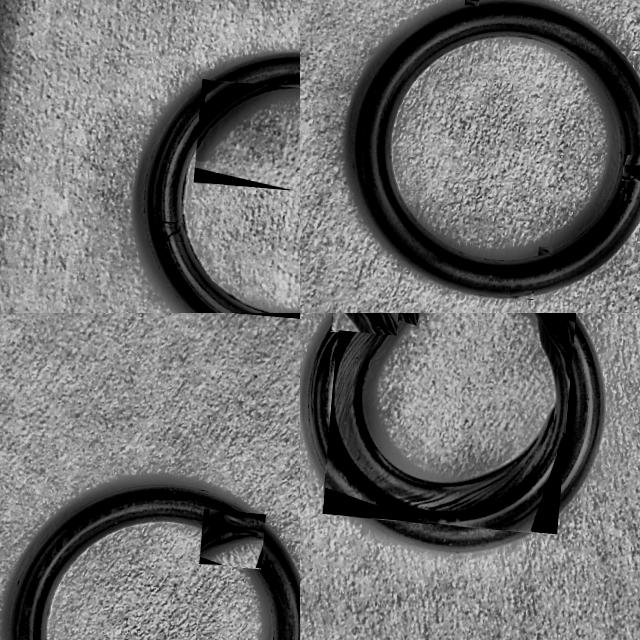侧边压痕: (510, 290, 533, 298), (465, 0, 477, 6)
切割缺陷: (199, 511, 264, 556), (366, 313, 397, 335), (156, 223, 184, 241), (622, 160, 640, 181)
裂纹: (333, 313, 568, 524), (196, 88, 300, 154), (538, 247, 552, 254)
